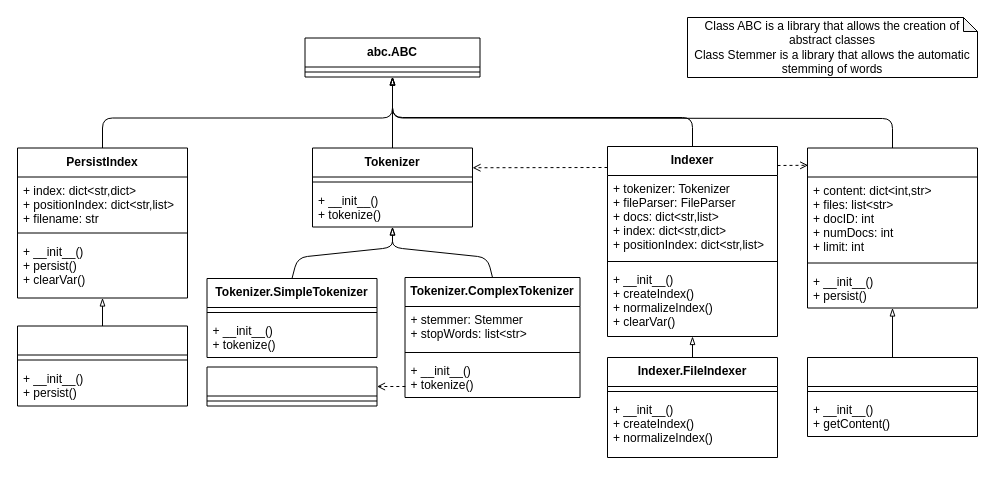
Some shapes in this 995 by 478 pixel diagram are drawn without their labels. The shapes that lost their labels are listed below. From the top down, each one's box as (x1, y1, x2, y2) in pixels, then its label:
(806, 147, 978, 308): FileParser
(16, 325, 188, 406): PersistIndex.PersistCSV
(206, 366, 377, 406): Stemmer
(806, 356, 978, 436): FileParser.GZipFileParser
